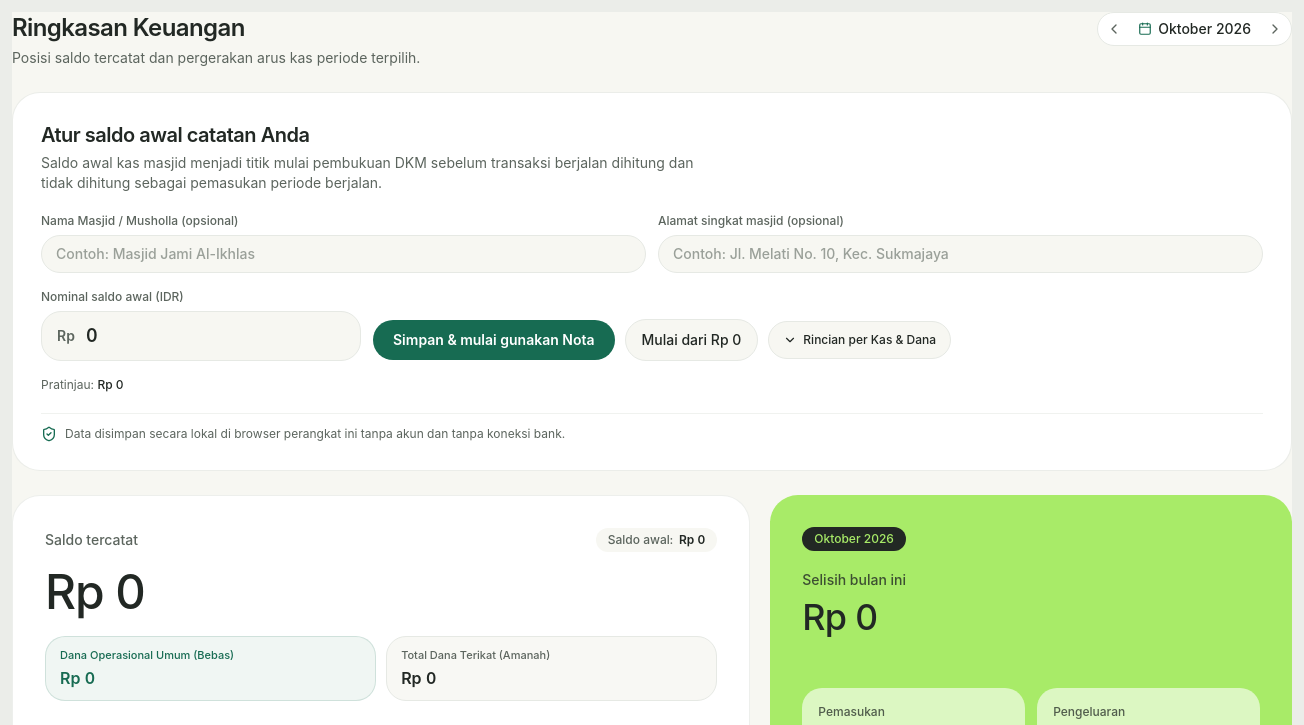
Scenario: Nota Milestone 2 — Local Persistence & First-Run Setup › displays an inline error alert inside OpeningBalanceSetup when saving opening balance fails
The width and height of the screenshot is (1304, 725).
Expected: the heading "Atur saldo awal catatan Anda" is shown, [41,123,309,147]
Click the button "Mulai dari Rp 0".
click(691, 340)  # box [624,319,758,361]
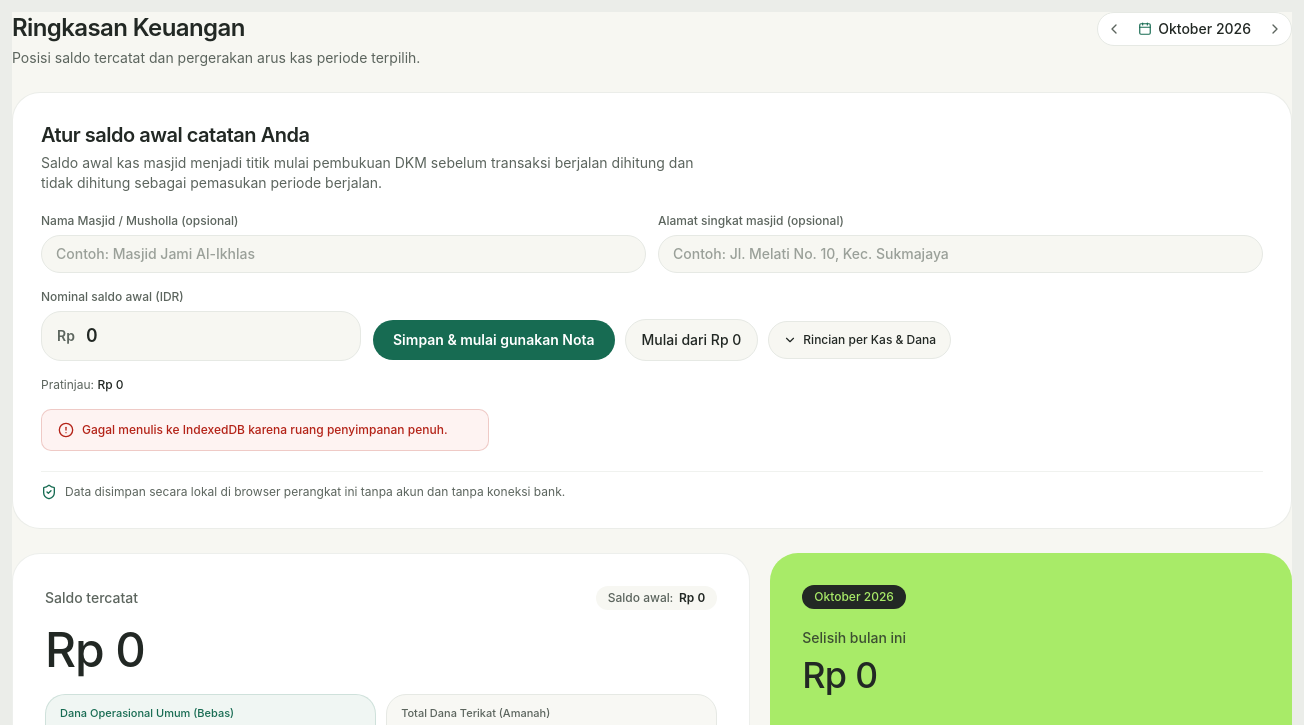
Result: the message shows "Gagal menulis ke IndexedDB karena ruang penyimpanan penuh" at [82,422,448,437]
